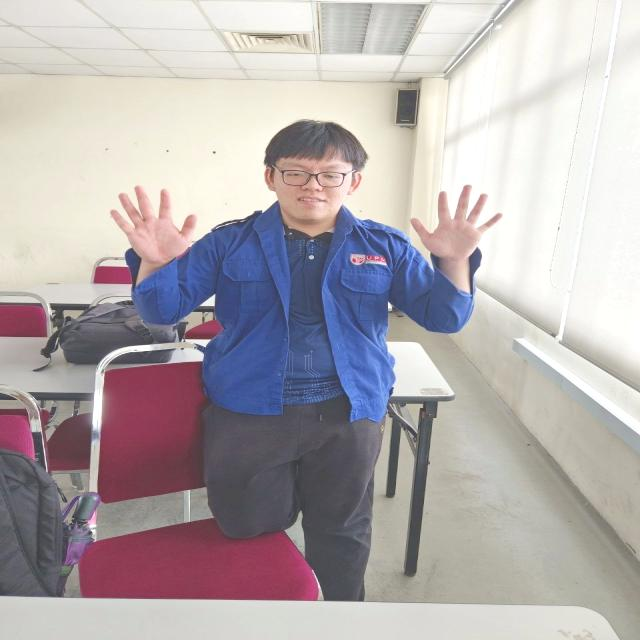person_with_labcoat: (111, 120, 501, 600)
